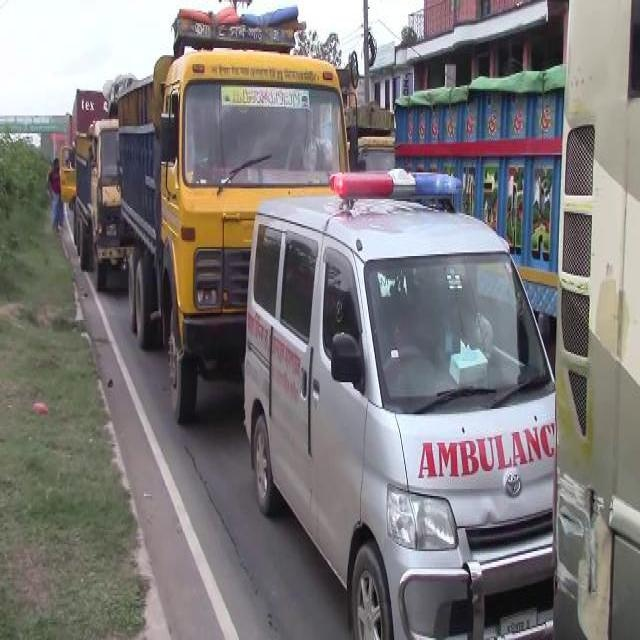Van: (239, 149, 555, 640)
